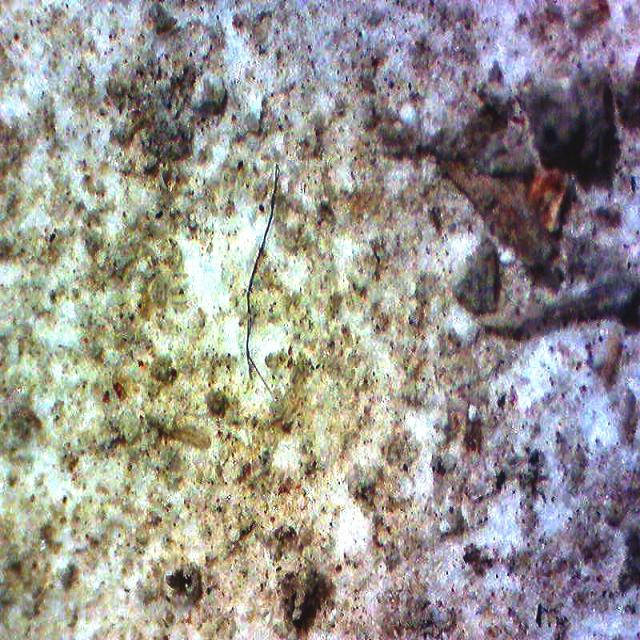microplastic: (246, 165, 279, 397)
